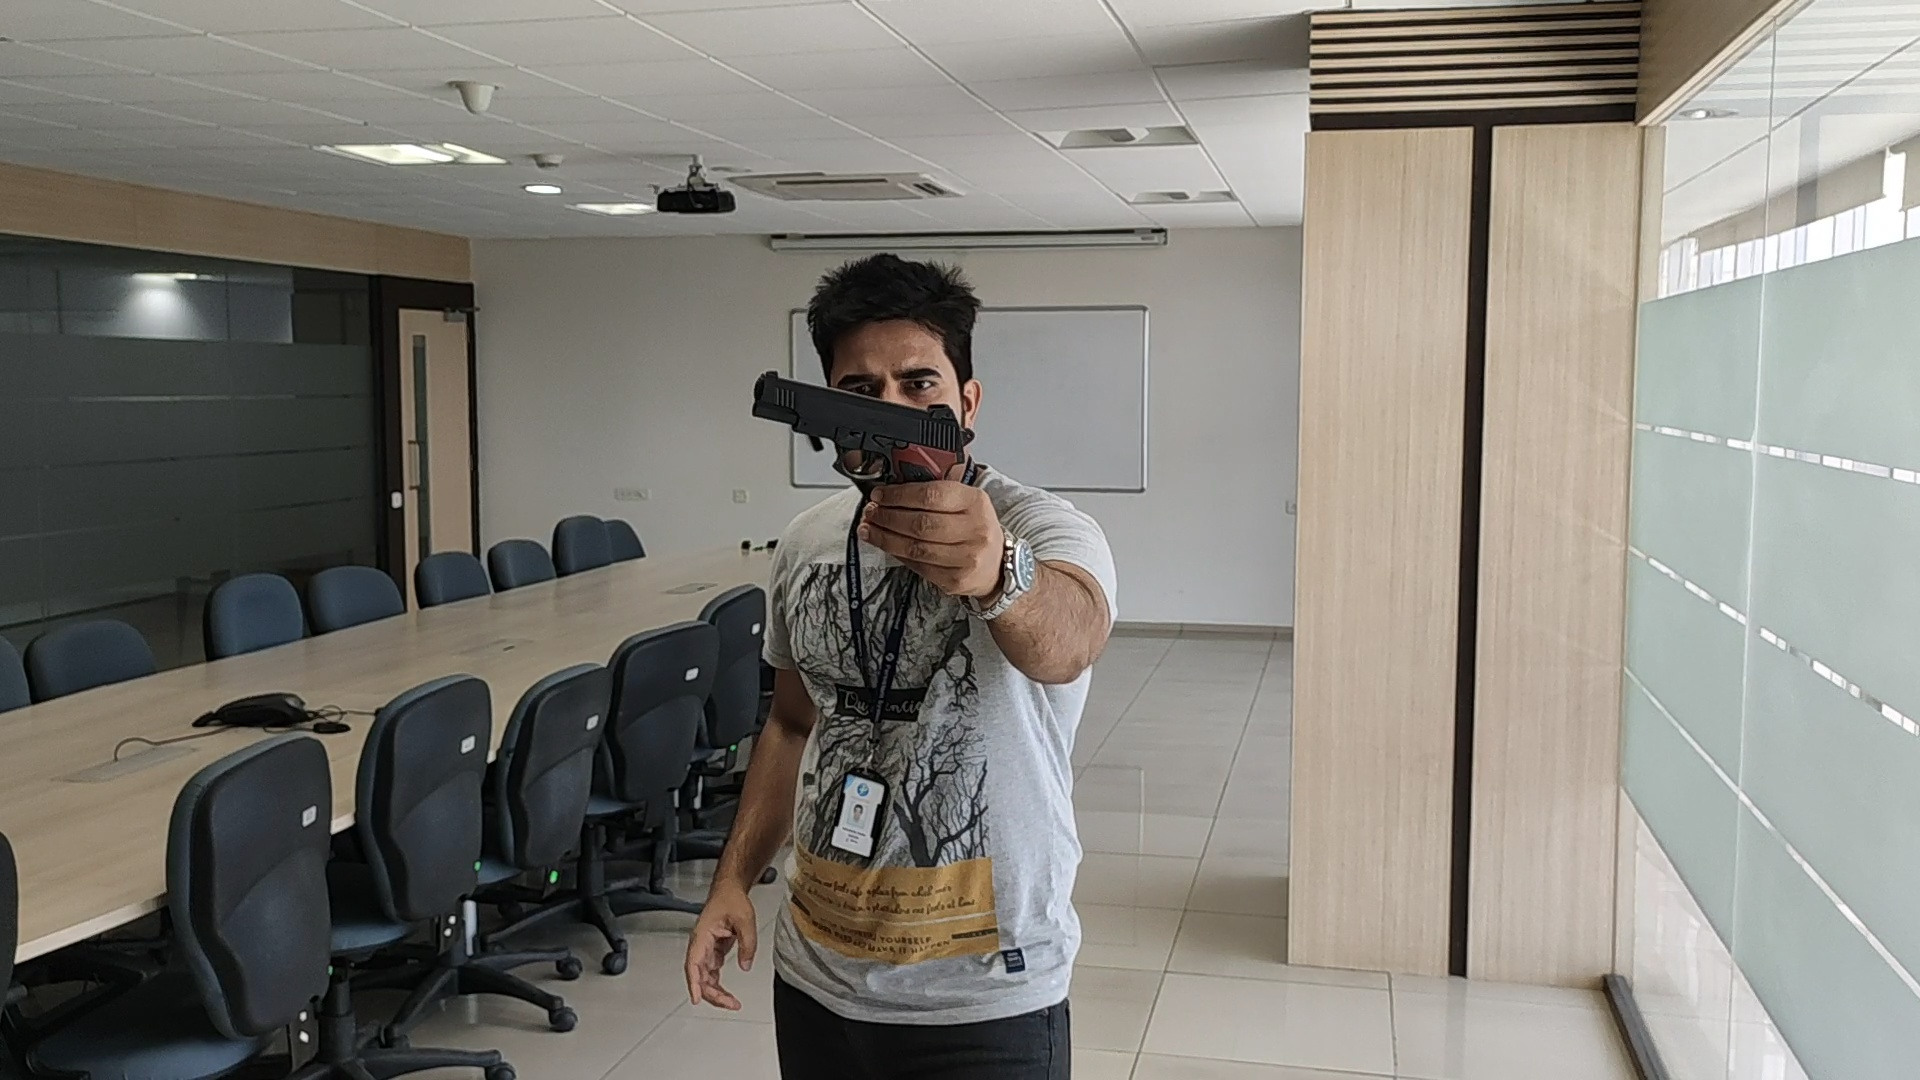gun: (752, 371, 975, 479)
